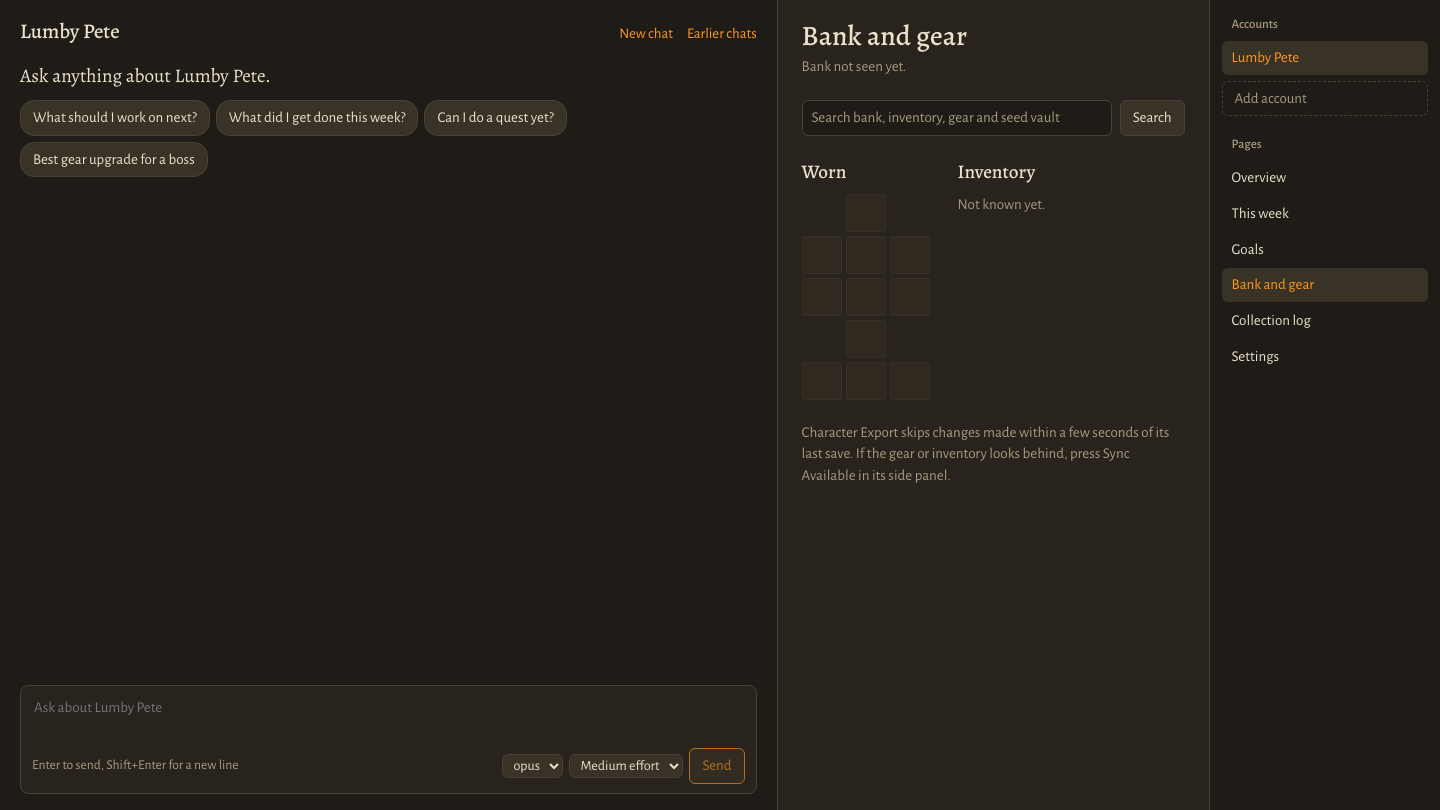
Test: BankGear › keeps the page when a search fails, saying why by the search box
The width and height of the screenshot is (1440, 810).
In the search field: (957, 118) [802,100,1112,136], type "boom"
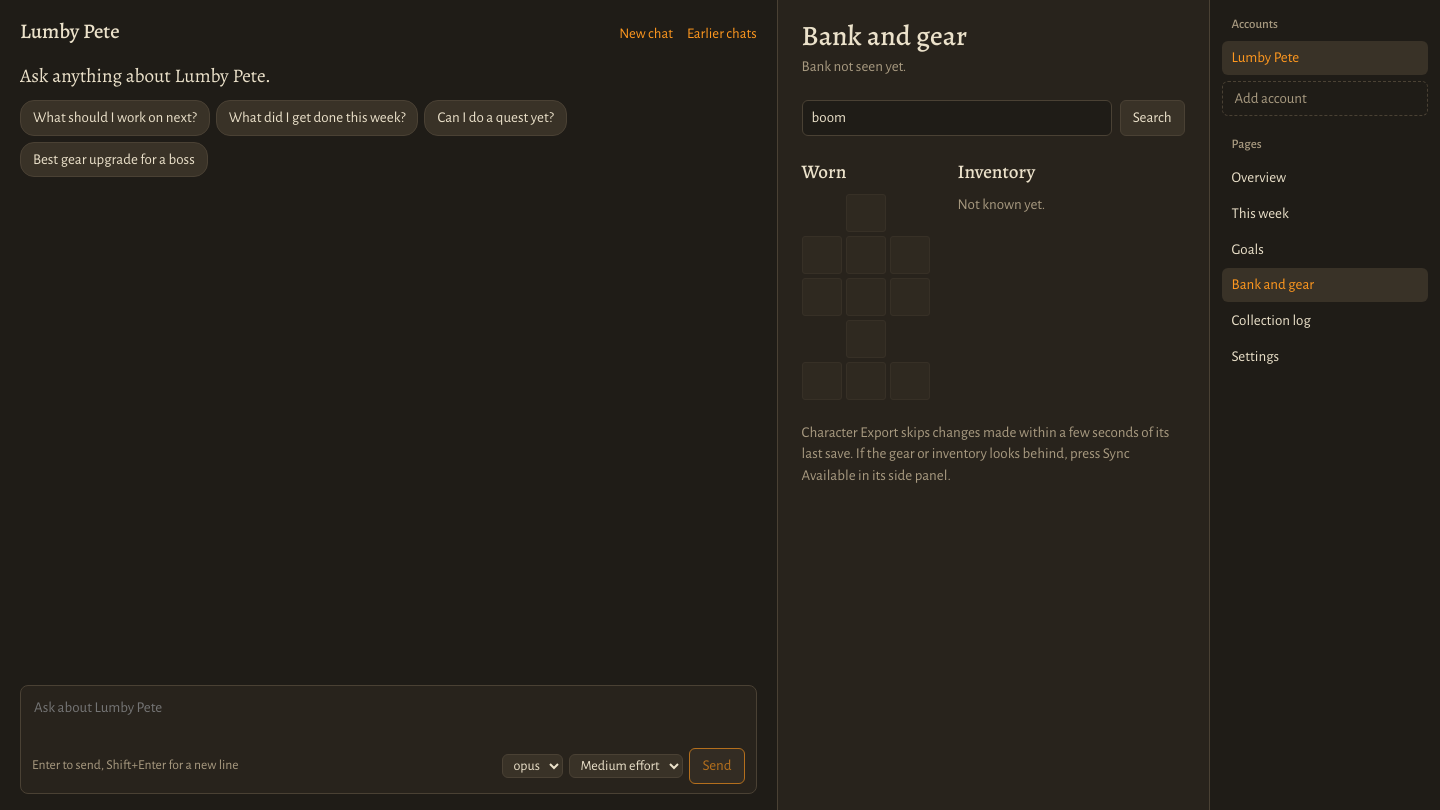
Submit the form from the search field, box [802,100,1112,136]
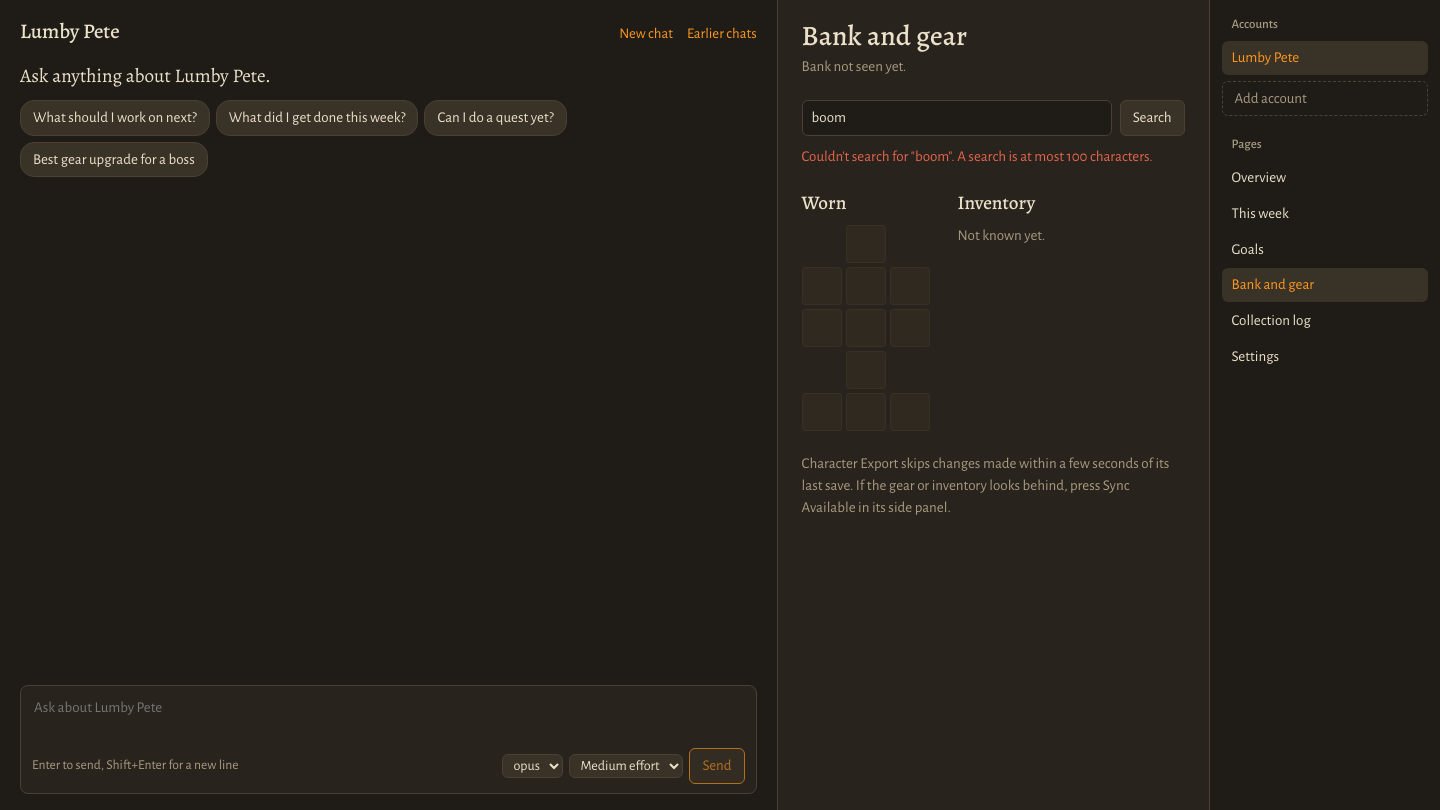
Expected: the heading "Bank and gear" is shown, [802,17,967,55]
Result: the text "Couldn't search for \"boom\". A search is at most 100 characters." is shown at [802,146,1185,168]
Clear the search field: (957, 118) [802,100,1112,136]
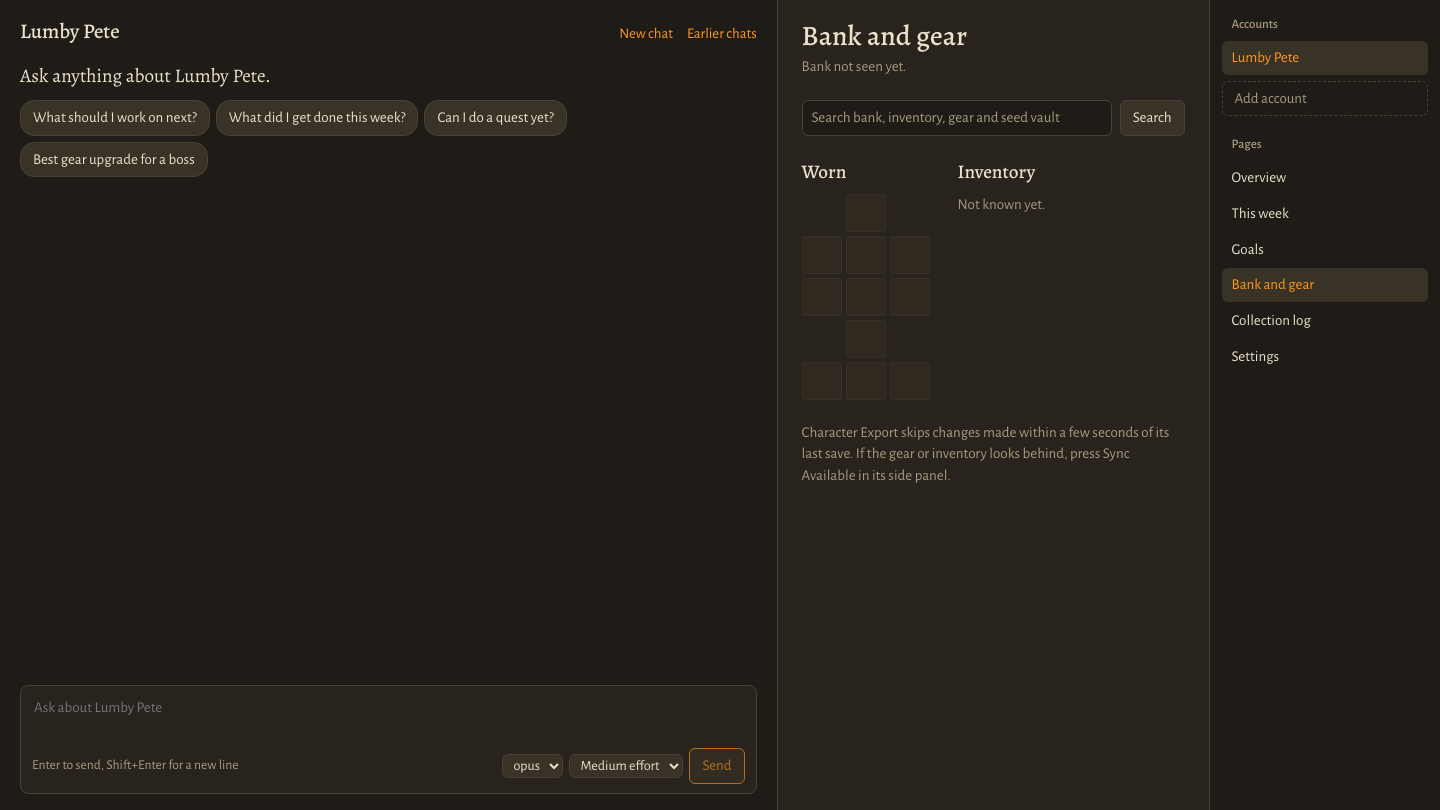
Result: the text "Couldn't search" is gone
